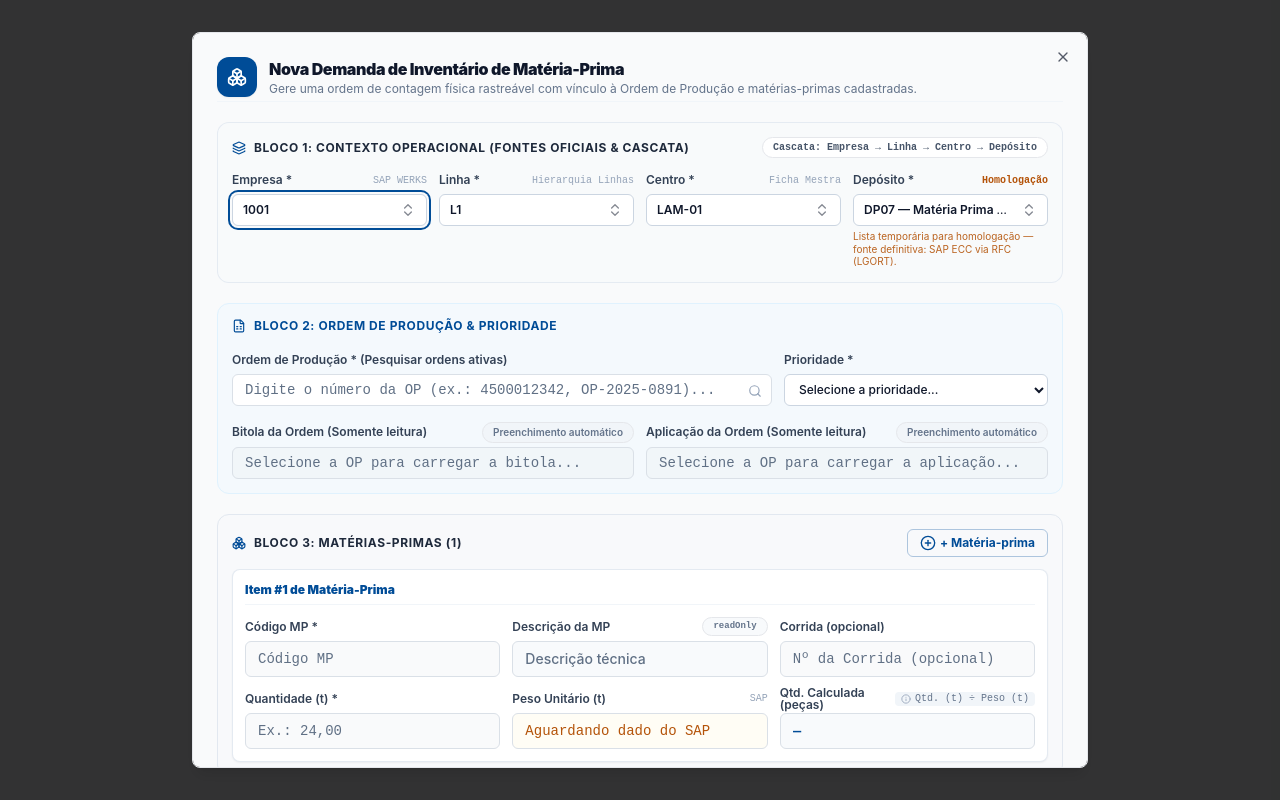
Test case: NovaDemandaInventarioModal — Bloco 1 Contexto Operacional com Cascata e Fontes Oficiais › Teste 7: Alterar Empresa limpa Linha e Centro; mantém lista de depósitos disponível na homologação
Expected: the dropdown with test id "select-linha-trigger" reads "L1", [439,194,634,226]
Expected: the dropdown with test id "select-centro-trigger" reads "LAM-01", [646,194,841,226]
Click the dropdown with test id "select-empresa-trigger": (330, 210) [232,194,427,226]
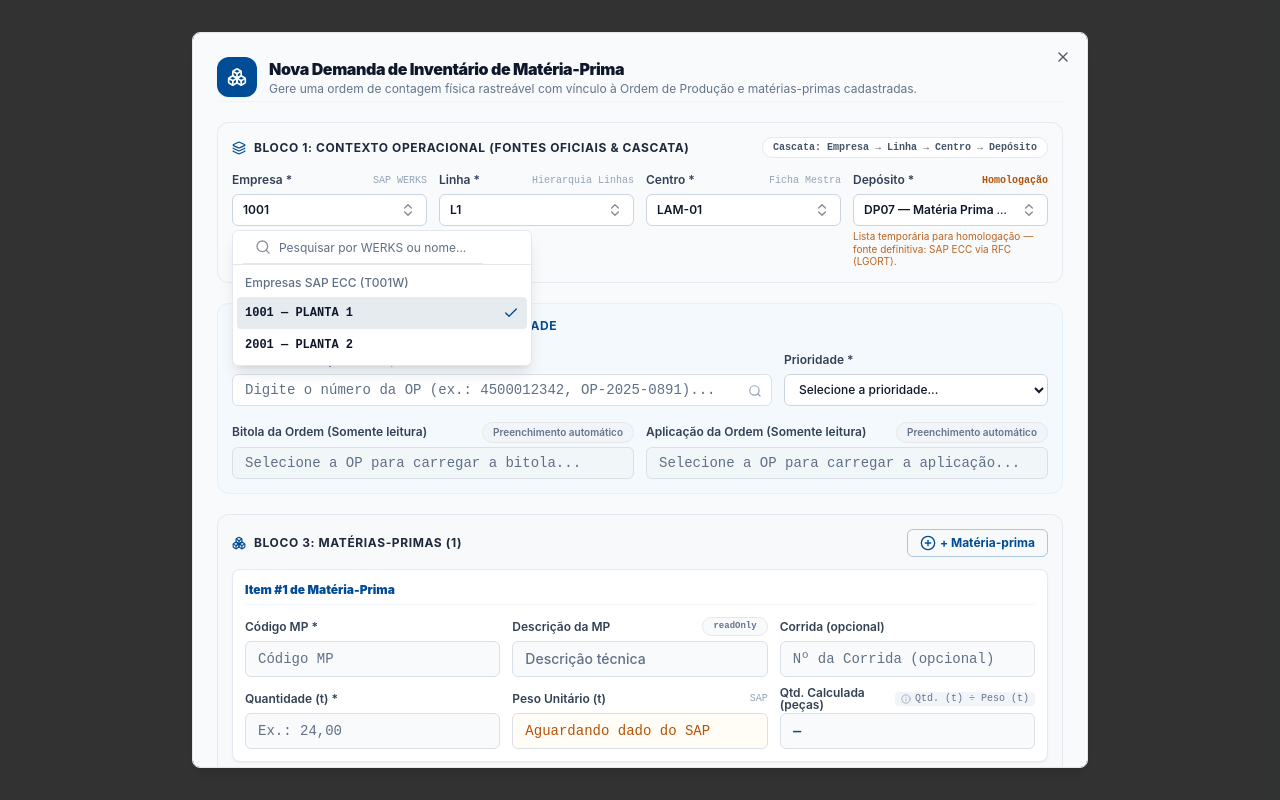
Now the option with test id "empresa-option-2001" is shown
Click the option with test id "empresa-option-2001": (299, 345) [245,338,353,352]
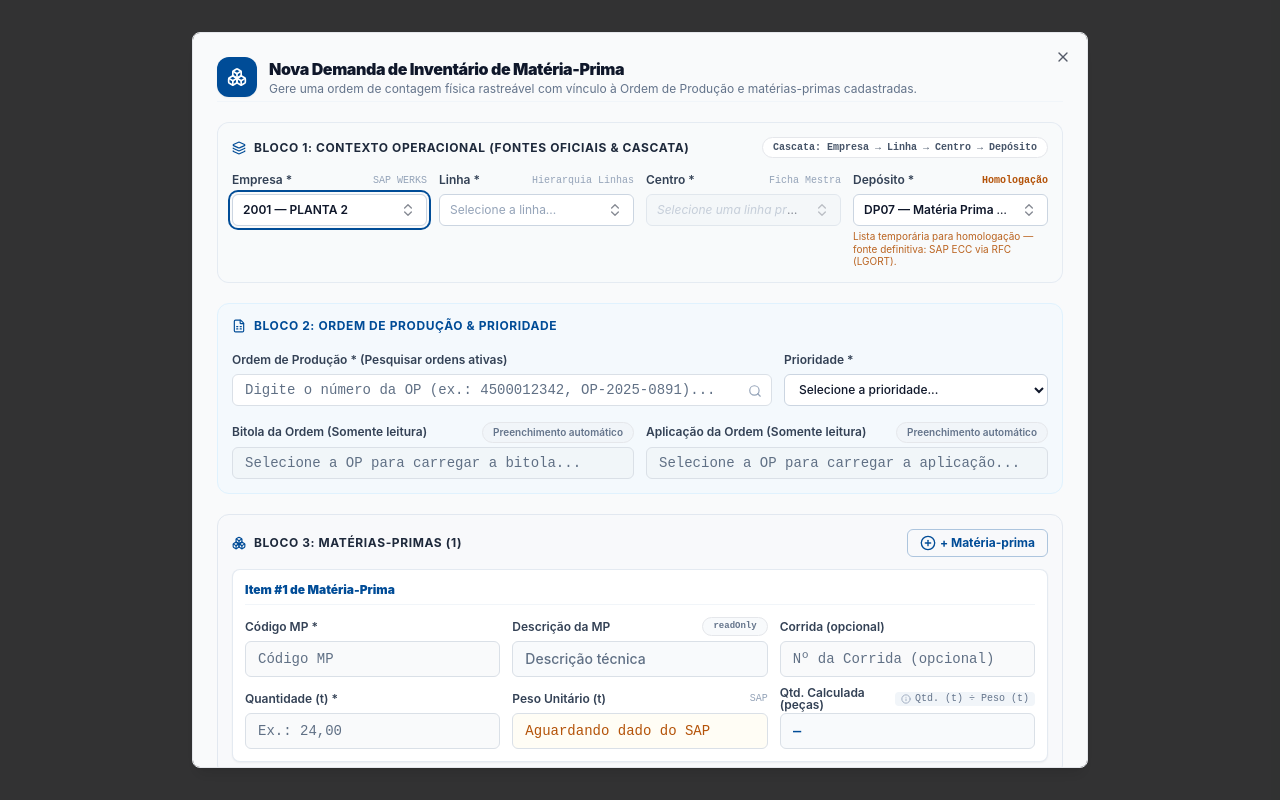
Expected: the dropdown with test id "select-deposito-trigger" is enabled, [853,194,1048,226]
Now the dropdown with test id "select-linha-trigger" reads "Selecione a linha...", box [439,194,634,226]
Now the dropdown with test id "select-centro-trigger" reads "Selecione uma linha primeiro...", box [646,194,841,226]
